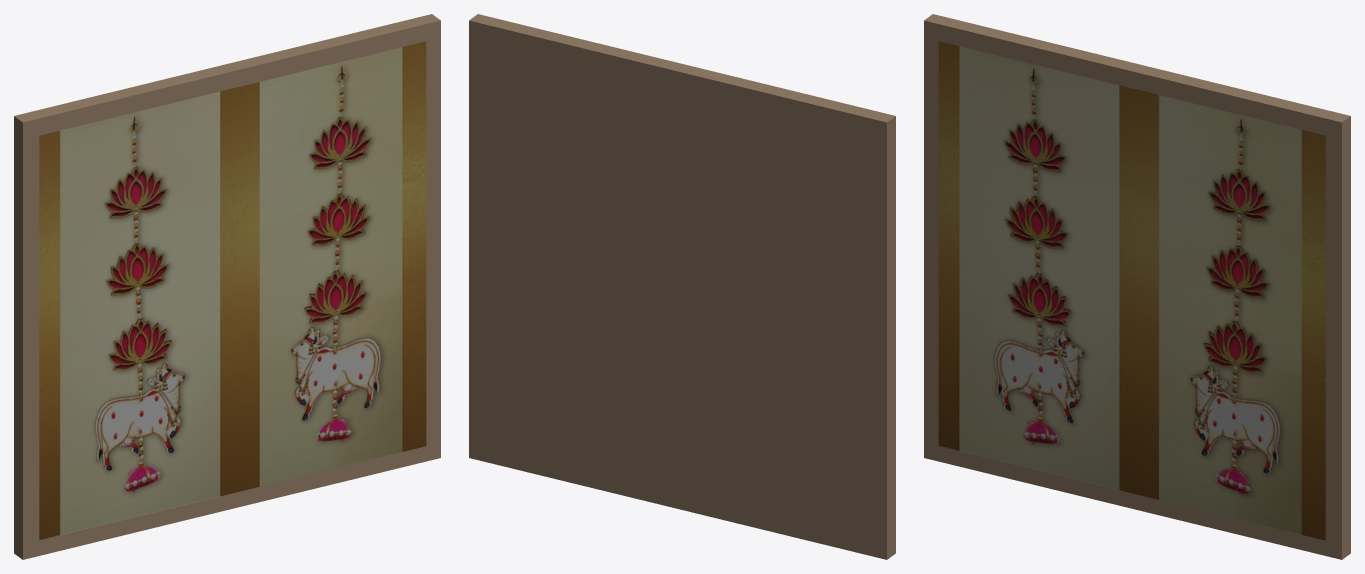
File: B0BD7VLPBM.glb
The picture shows the model from 3 angles, left to right: view 1: azimuth 30°, elevation 25°; view 2: azimuth 150°, elevation 25°; view 3: azimuth 330°, elevation 25°; orthographic projection.
Parts seen in each view (by area): view 1: photo, frame; view 2: frame; view 3: photo, frame.
Part boxes in pixels (box(x1,y1,x2,y2)): photo: box(39, 41, 426, 540); frame: box(14, 14, 440, 559); frame: box(469, 14, 895, 559); photo: box(938, 41, 1325, 540); frame: box(924, 14, 1350, 559).
Size of the model in its own units: 0.54 by 0.54 by 0.022.
Materials: 1 (1 with a texture image).
